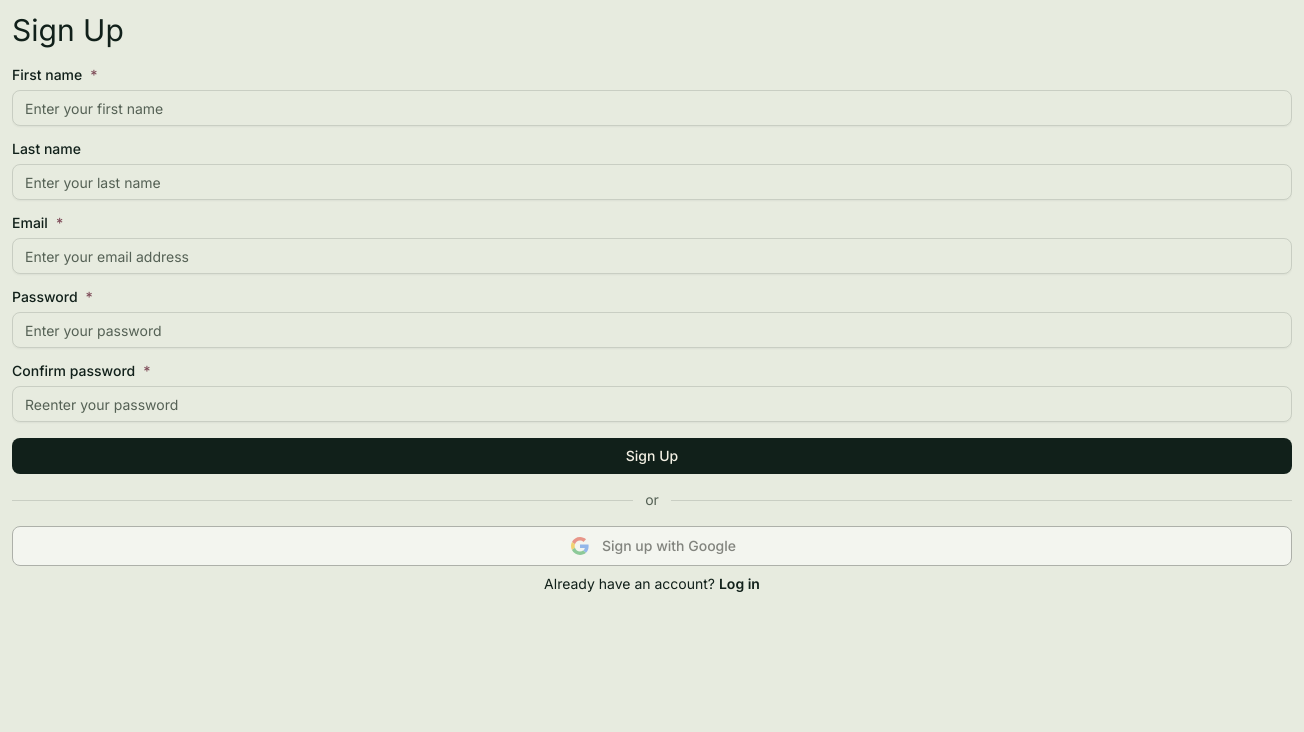
SignupForm › validation › shows error when first name is shorter than 3 characters
The image size is (1304, 732).
Type "Ga" into the field labelled "First name *" at [652, 108], box [12, 90, 1292, 126]
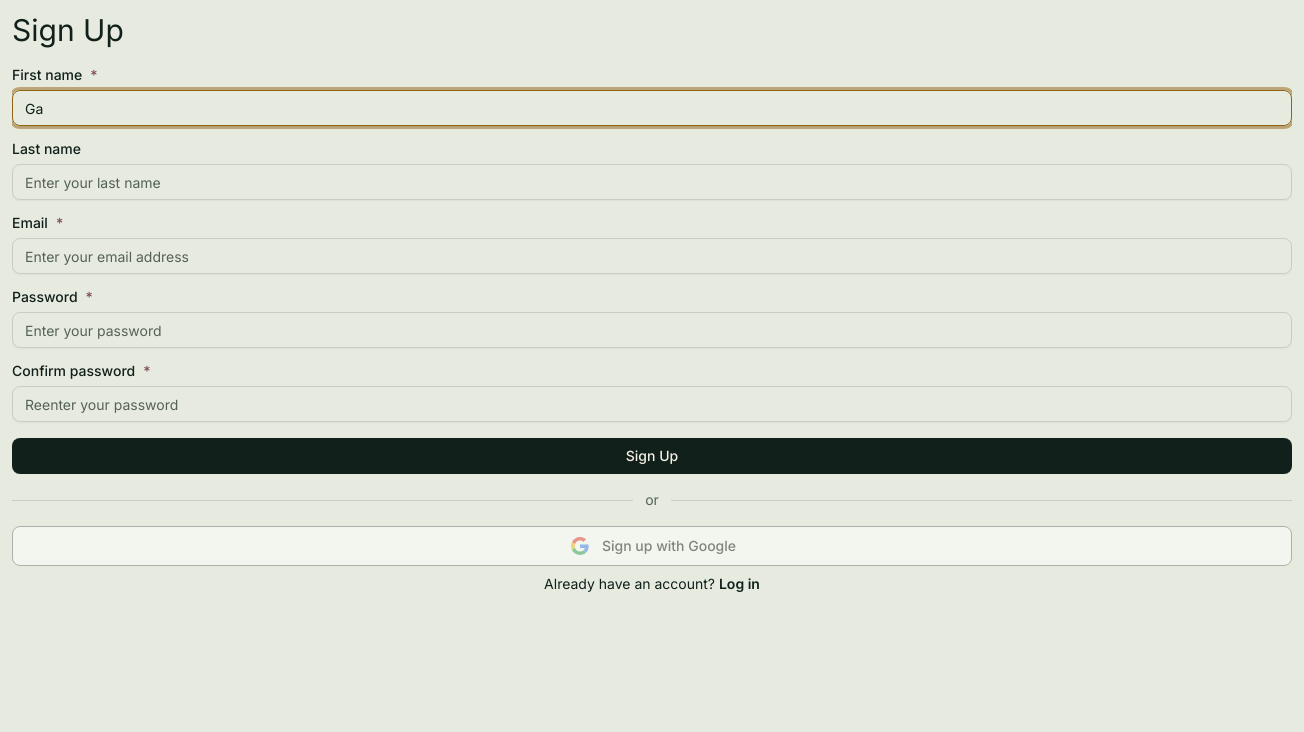
Type "galadriel@lorien.me" into the field labelled "Email *" at [652, 256], box [12, 238, 1292, 274]
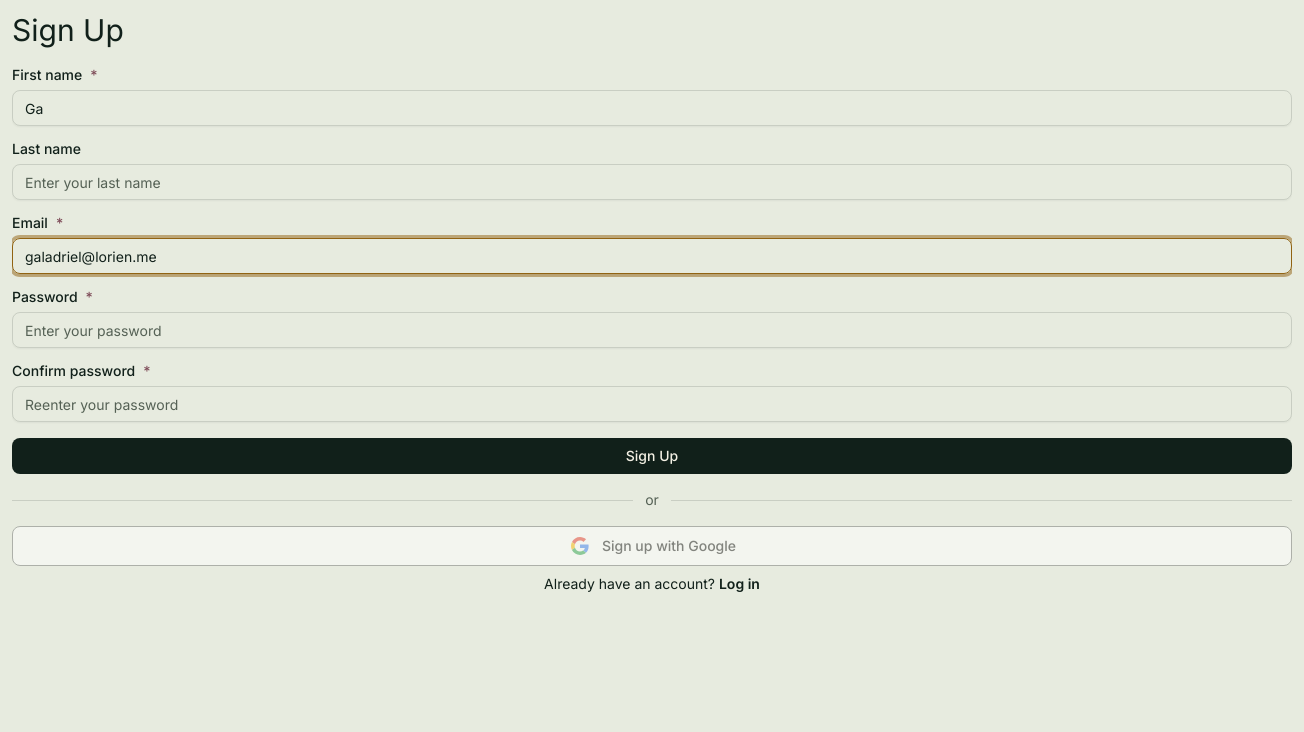
Type "huntsauron123" into the password field labelled "Password *" at [652, 330], box [12, 312, 1292, 348]
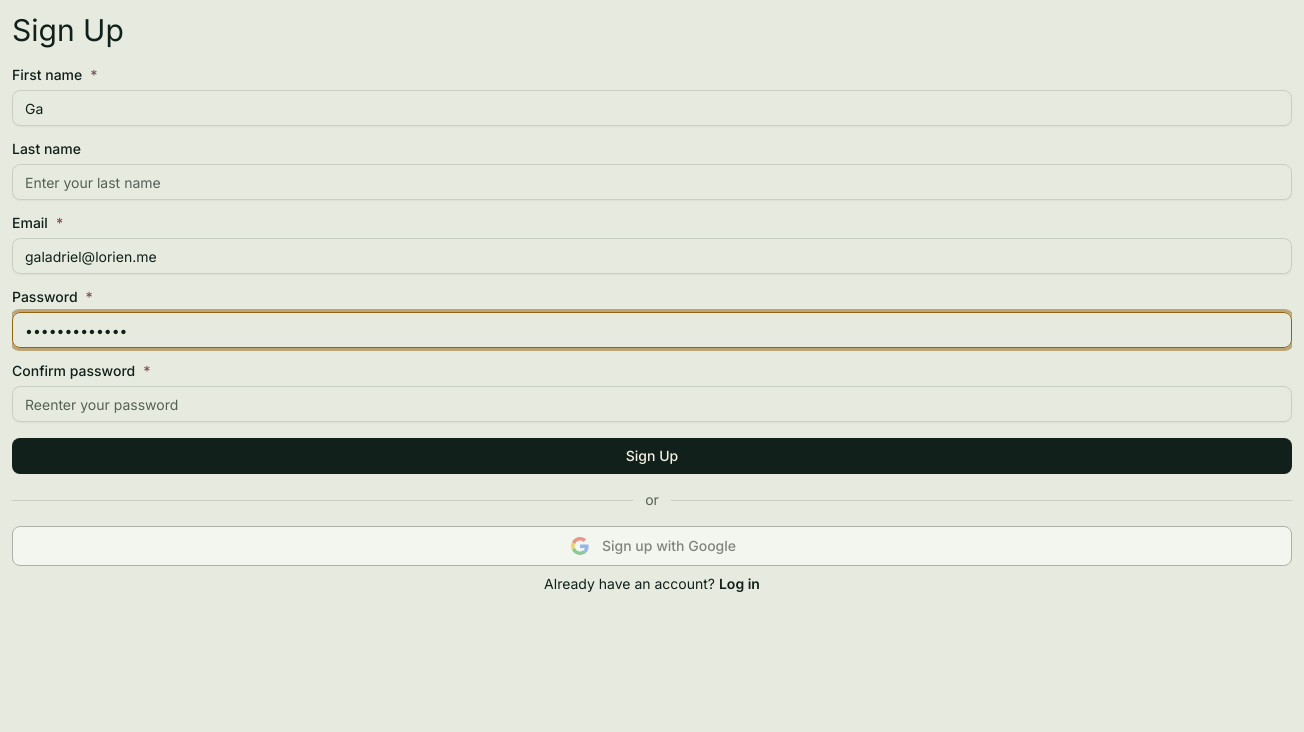
Type "huntsauron123" into the password field labelled "Confirm password *" at [652, 404], box [12, 386, 1292, 422]
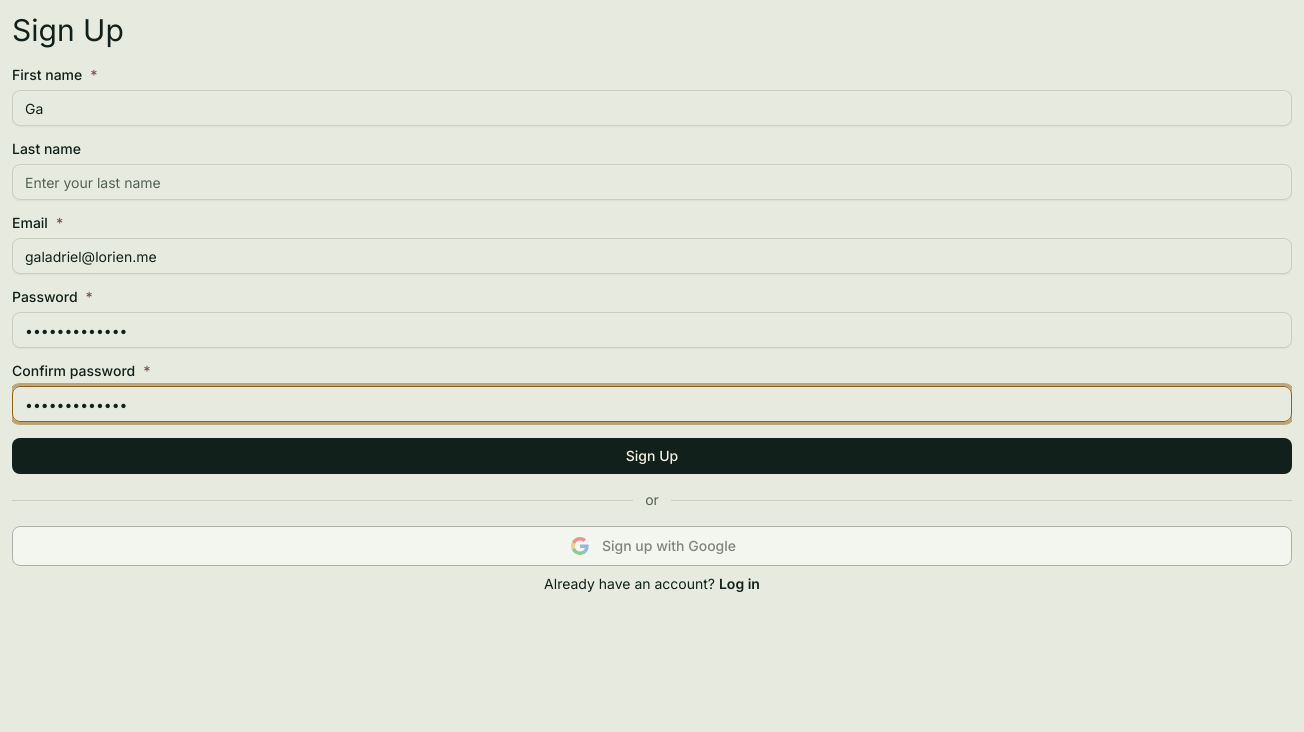
Click the button "Sign Up" at [652, 456], box [12, 438, 1292, 474]
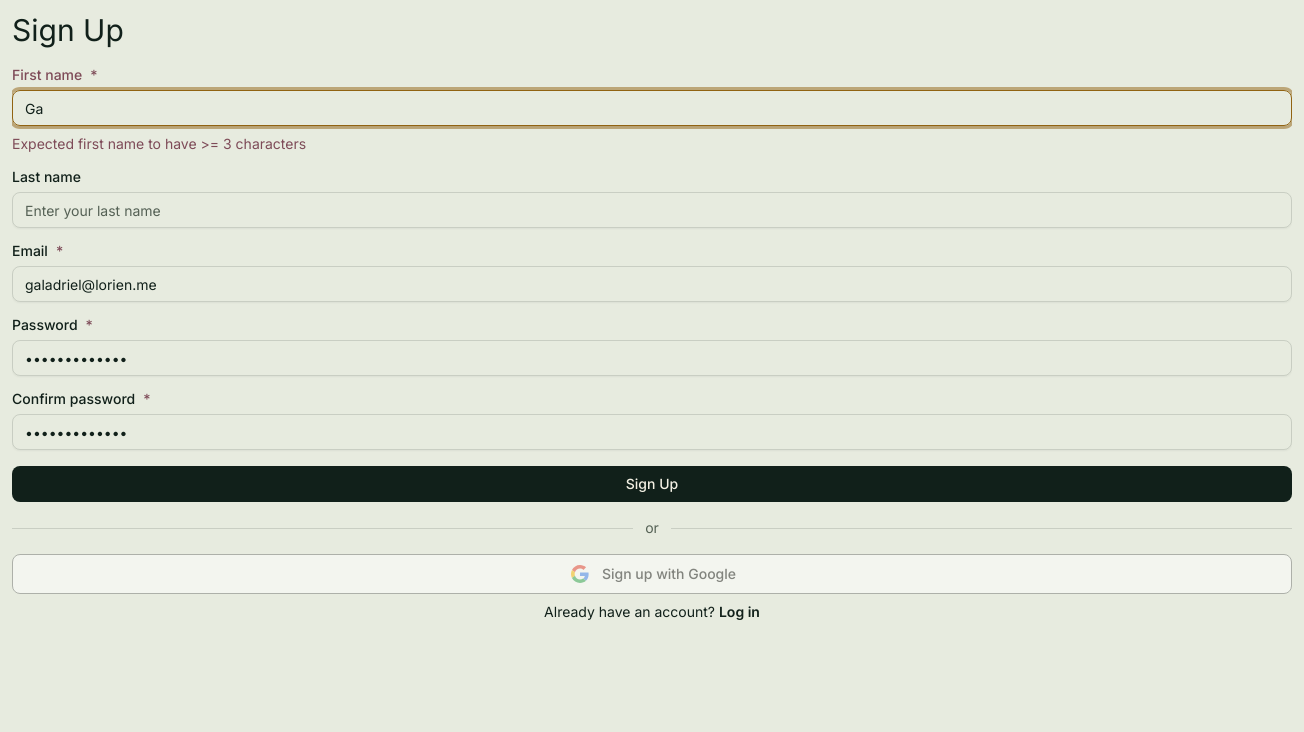
Expected: the text "Expected first name to have >= 3 characters" is shown, [12, 135, 306, 152]
